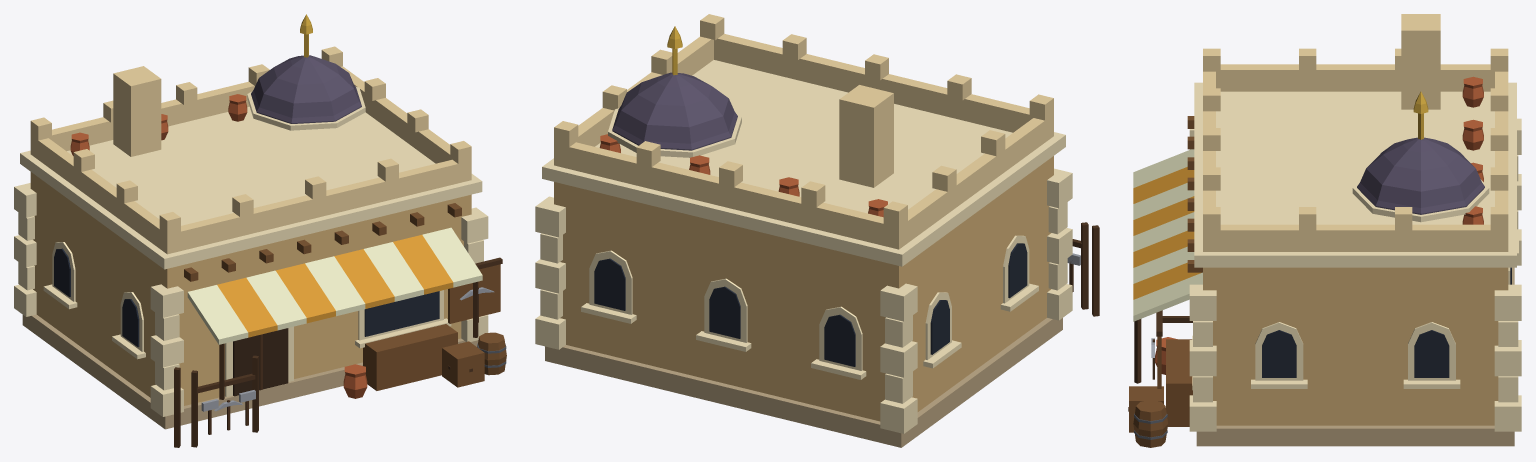
Rendered from shop_tools.fbx.
3 renders of one model, left to right at view 1: azimuth 30°, elevation 25°; view 2: azimuth 150°, elevation 25°; view 3: azimuth 270°, elevation 25°, orthographic. The views are drawn at different scales.
Parts seen in each view (by area): view 1: shop_tools; view 2: shop_tools; view 3: shop_tools.
Part boxes in pixels (box(x1,y1,x2,y2)): shop_tools: box(14, 14, 506, 447); shop_tools: box(535, 14, 1099, 447); shop_tools: box(1128, 14, 1521, 447).
Bounding box in the file's own units: 9.81 × 7.99 × 9.03.
1 material, 1 textured.
